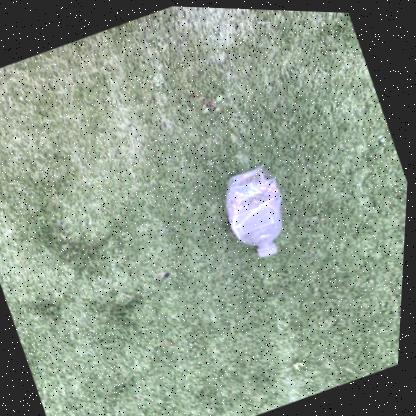Plastic: (227, 164, 283, 253)
